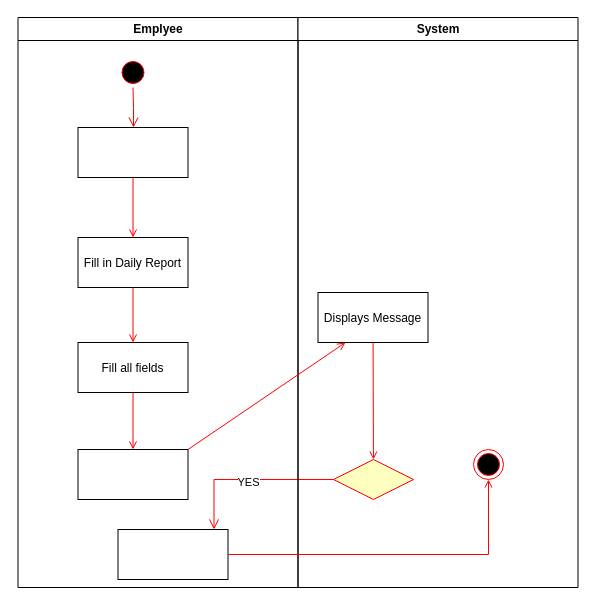
Image size: 595x605. Some labels were removed from this diagram. The shapes that lost their labels are listed below. From the top down, each one's centre as x and y in pixels, then its label:
At (132,152): "Log in".
At (132,474): "Send Report".
At (172,554): "Report Sent".
